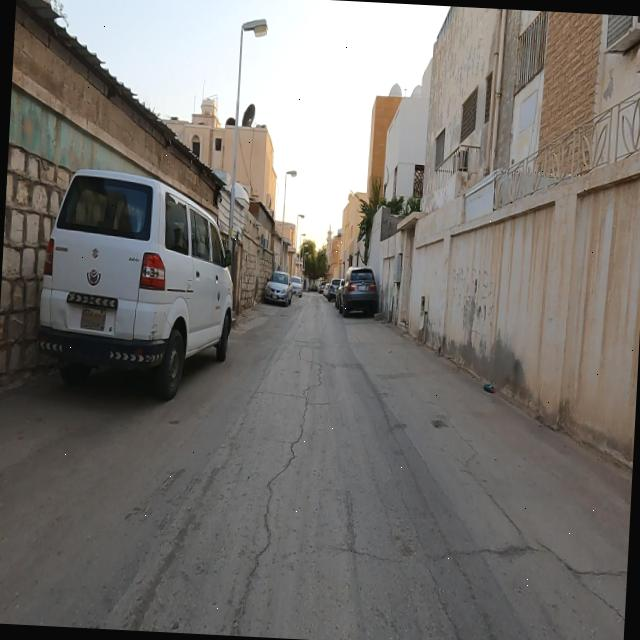Graffiti: (451, 266, 498, 345)
